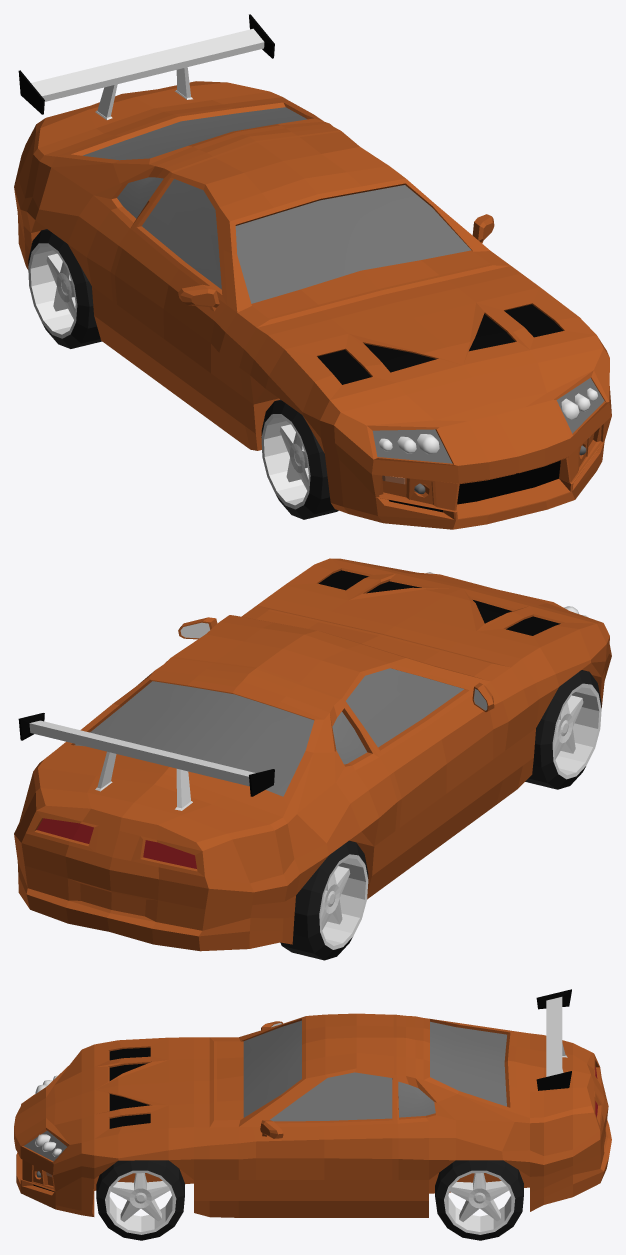
The model's file is supra.fbx.
3 views of the same model, one above another, from view 1: azimuth 30°, elevation 25°; view 2: azimuth 150°, elevation 25°; view 3: azimuth 270°, elevation 25° (orthographic). The views are drawn at different scales.
Visible parts, largest first — view 1: Cube.001; view 2: Cube.001; view 3: Cube.001.
Part boxes in pixels (<box>): Cube.001: <box>14,14,611,529</box>; Cube.001: <box>14,558,611,960</box>; Cube.001: <box>14,989,611,1240</box>.
Bounding box in the file's own units: 406 × 274 × 923.
